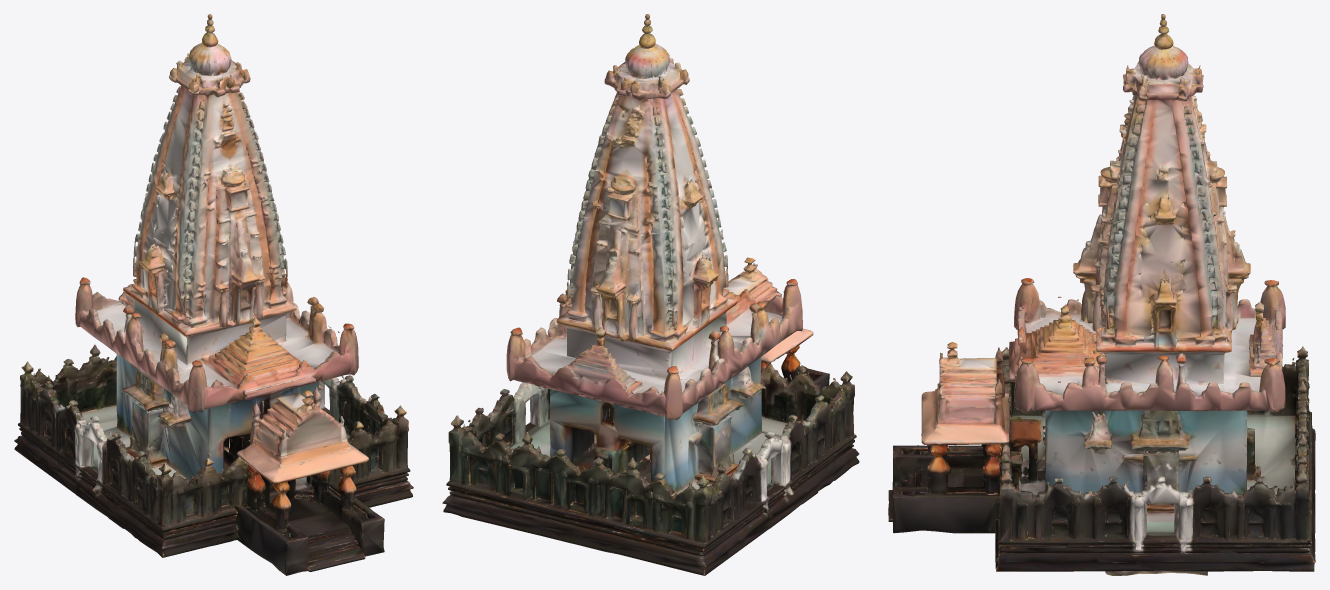
Rendered from Kauleshwari Temple.glb.
3 renders of one model, left to right at view 1: azimuth 30°, elevation 25°; view 2: azimuth 150°, elevation 25°; view 3: azimuth 270°, elevation 25°, orthographic. The views are drawn at different scales.
Bounding box in the file's own units: 1.02 × 1.9 × 1.37.
Materials: 1 (1 with a texture image).
